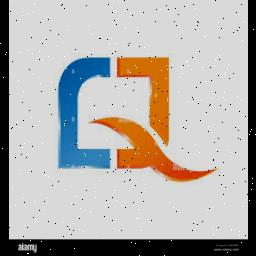q: (51, 50, 221, 188)
